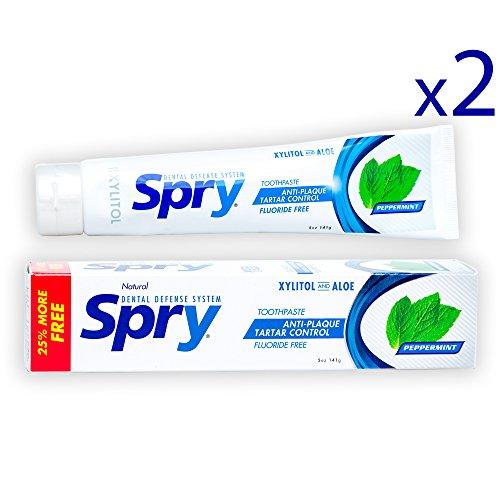toothpaste: (27, 250, 484, 391), (24, 125, 466, 253)
